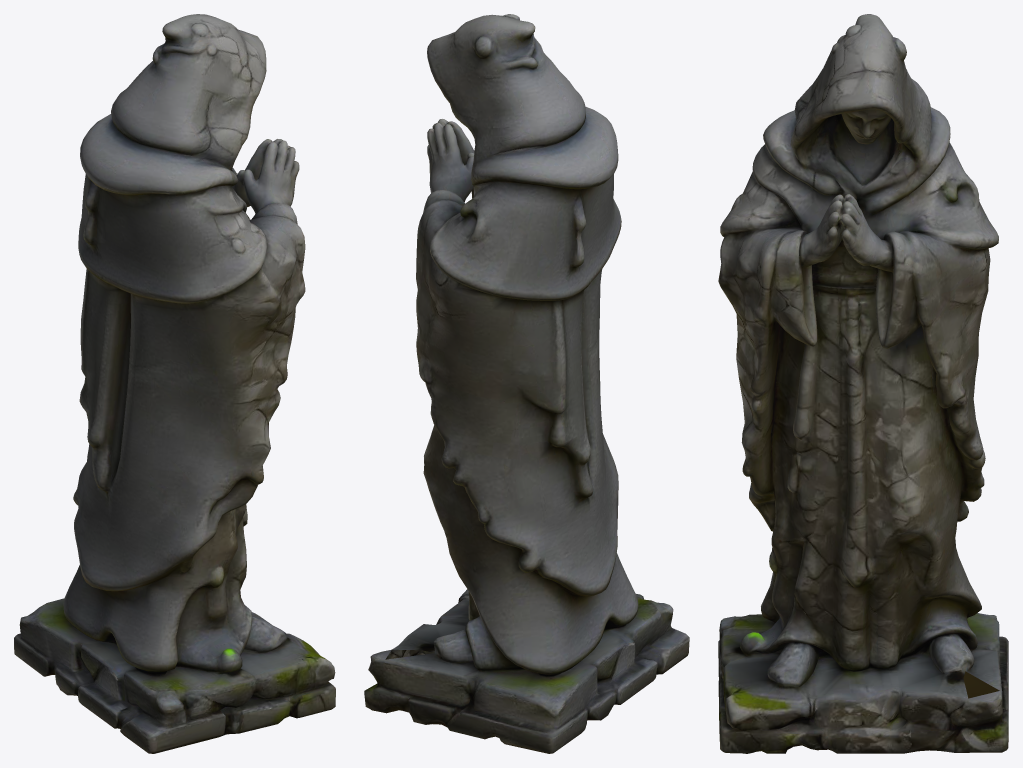
Rendered from statue.glb.
3 renders of one model, left to right at view 1: azimuth 30°, elevation 25°; view 2: azimuth 150°, elevation 25°; view 3: azimuth 270°, elevation 25°, orthographic. The views are drawn at different scales.
Parts seen in each view (by area): view 1: tripo_node_4a03d773-e8f4-4822-ab53-f0e4e5a0435c; view 2: tripo_node_4a03d773-e8f4-4822-ab53-f0e4e5a0435c; view 3: tripo_node_4a03d773-e8f4-4822-ab53-f0e4e5a0435c.
Boxes of the visible parts, bbox=[...] form: tripo_node_4a03d773-e8f4-4822-ab53-f0e4e5a0435c: bbox=[14, 14, 335, 753]; tripo_node_4a03d773-e8f4-4822-ab53-f0e4e5a0435c: bbox=[364, 14, 689, 753]; tripo_node_4a03d773-e8f4-4822-ab53-f0e4e5a0435c: bbox=[718, 14, 1008, 753].
Size of the model in its own units: 0.3237 by 0.9995 by 0.3804.
1 material, 1 textured.
